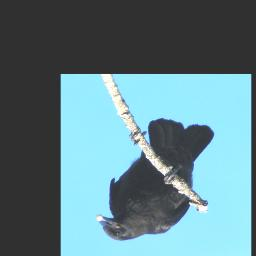Crow: (95, 117, 215, 242)
